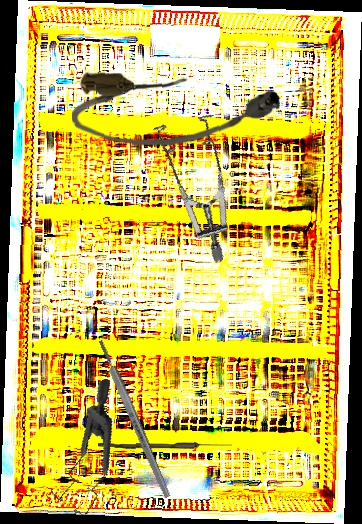Cannula: (70, 71, 282, 152)
Scalpel Handle: (96, 338, 172, 500)
Speculum: (119, 99, 265, 265), (23, 378, 146, 523)
Surgical Spoon: (97, 440, 233, 451)
